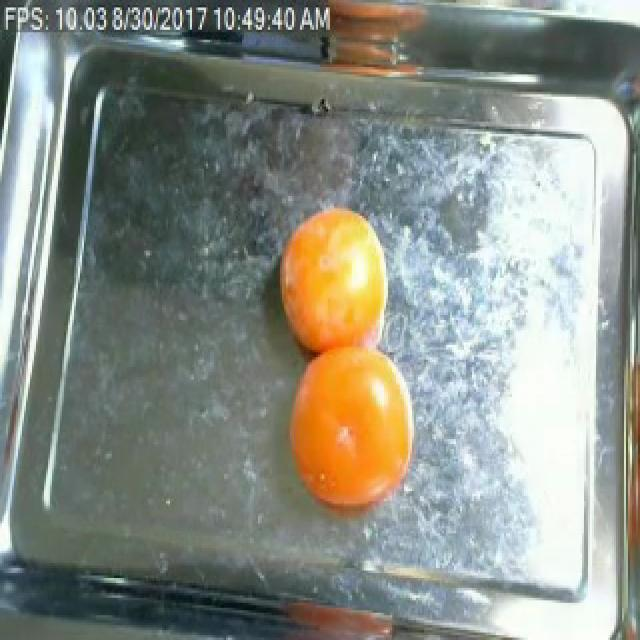Fruit: (272, 325, 426, 536), (262, 189, 402, 377), (310, 0, 440, 72)
